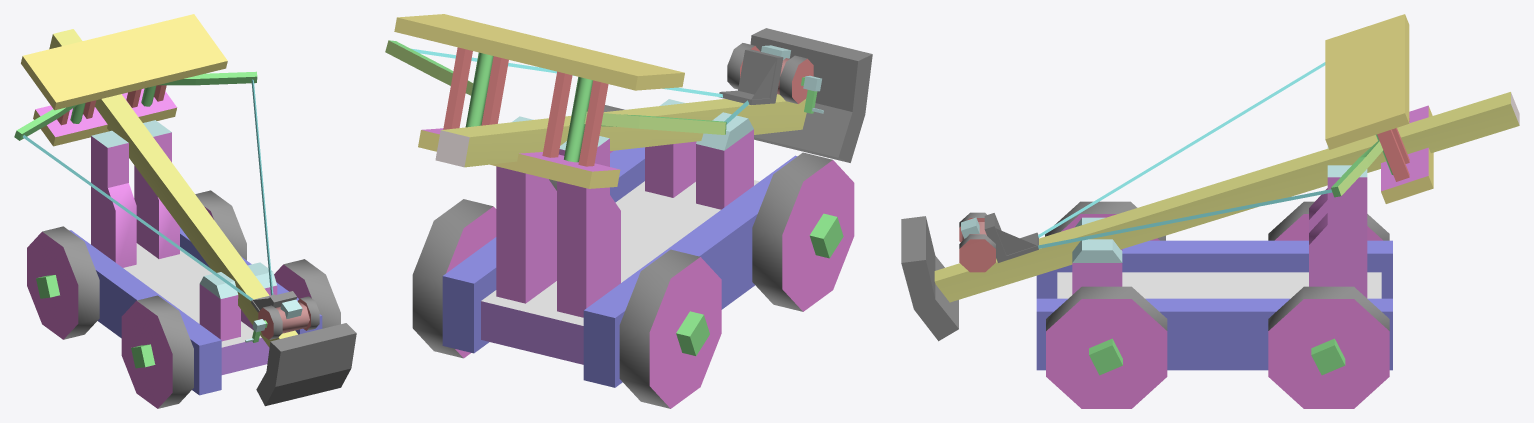
Rendered from Old_War_s__catapult_human.gltf.
3 renders of one model, left to right at view 1: azimuth 30°, elevation 25°; view 2: azimuth 150°, elevation 25°; view 3: azimuth 270°, elevation 25°, orthographic. The views are drawn at different scales.
Visible parts, largest first — view 1: catapult_human; view 2: catapult_human; view 3: catapult_human.
Part boxes in pixels (box(x1,y1,x2,y2)): catapult_human: box(14, 14, 356, 408); catapult_human: box(385, 14, 872, 408); catapult_human: box(901, 14, 1519, 408).
Bounding box in the file's own units: 1.18 × 1.18 × 2.21.
